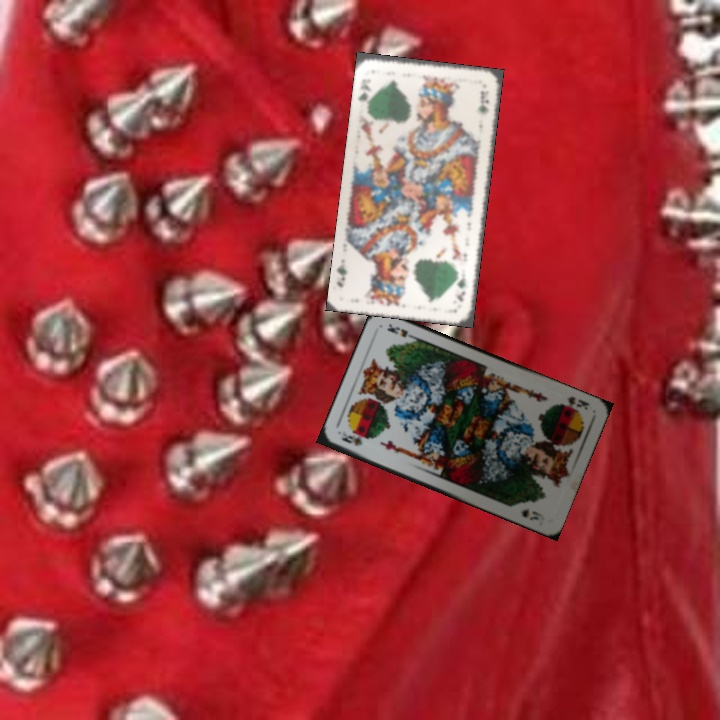GK: (354, 75, 374, 109), (453, 270, 468, 304)
SK: (556, 392, 592, 414), (337, 427, 365, 449)
